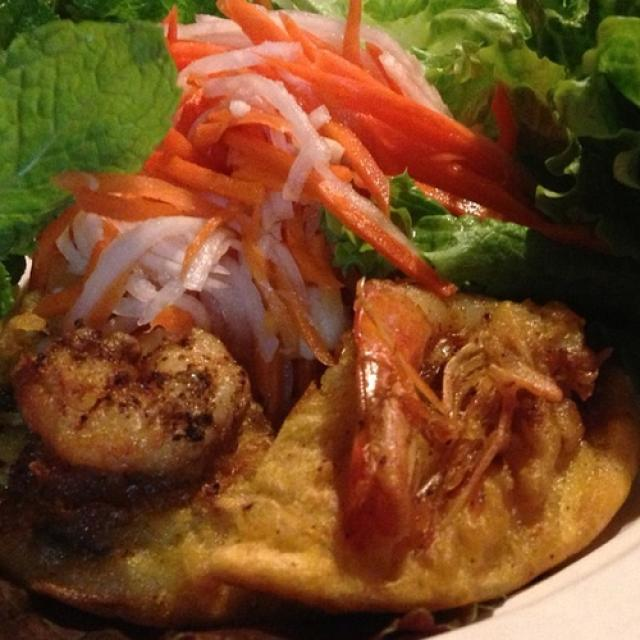炸货点心: (11, 8, 617, 608)
熟制海鲜: (11, 8, 617, 608)
